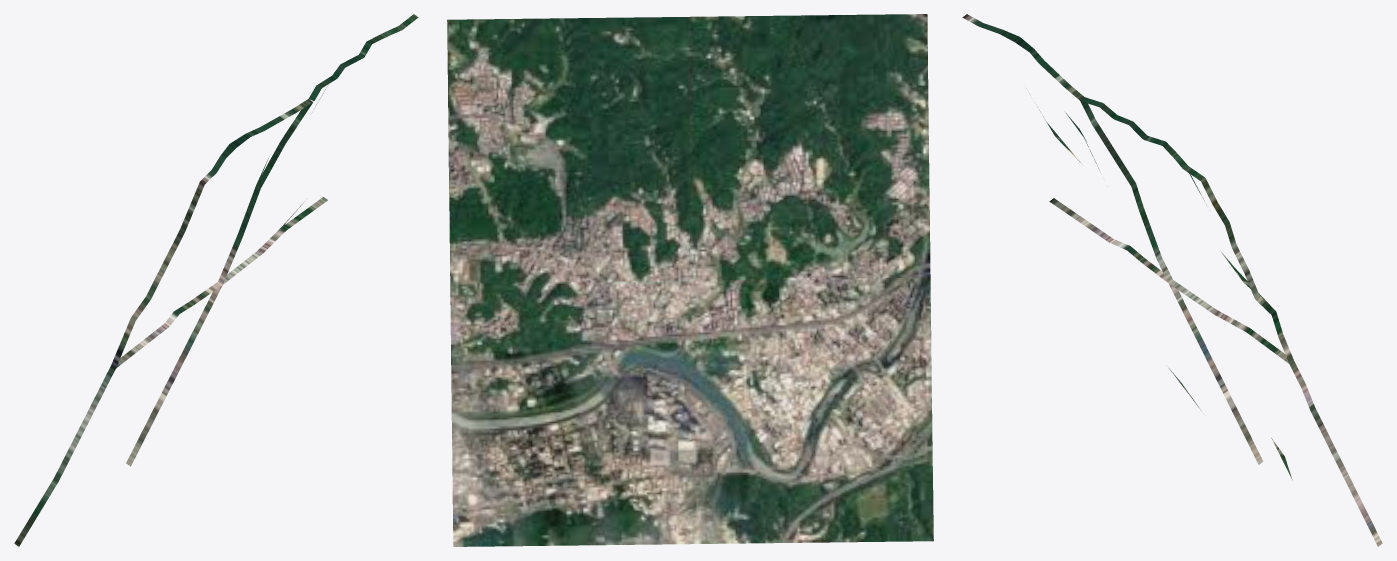
3 renders of one model, left to right at view 1: azimuth 30°, elevation 25°; view 2: azimuth 150°, elevation 25°; view 3: azimuth 270°, elevation 25°, orthographic. The views are drawn at different scales.
Size of the model in its own units: 4904 by 4509 by 4104.
1 material, 1 textured.
